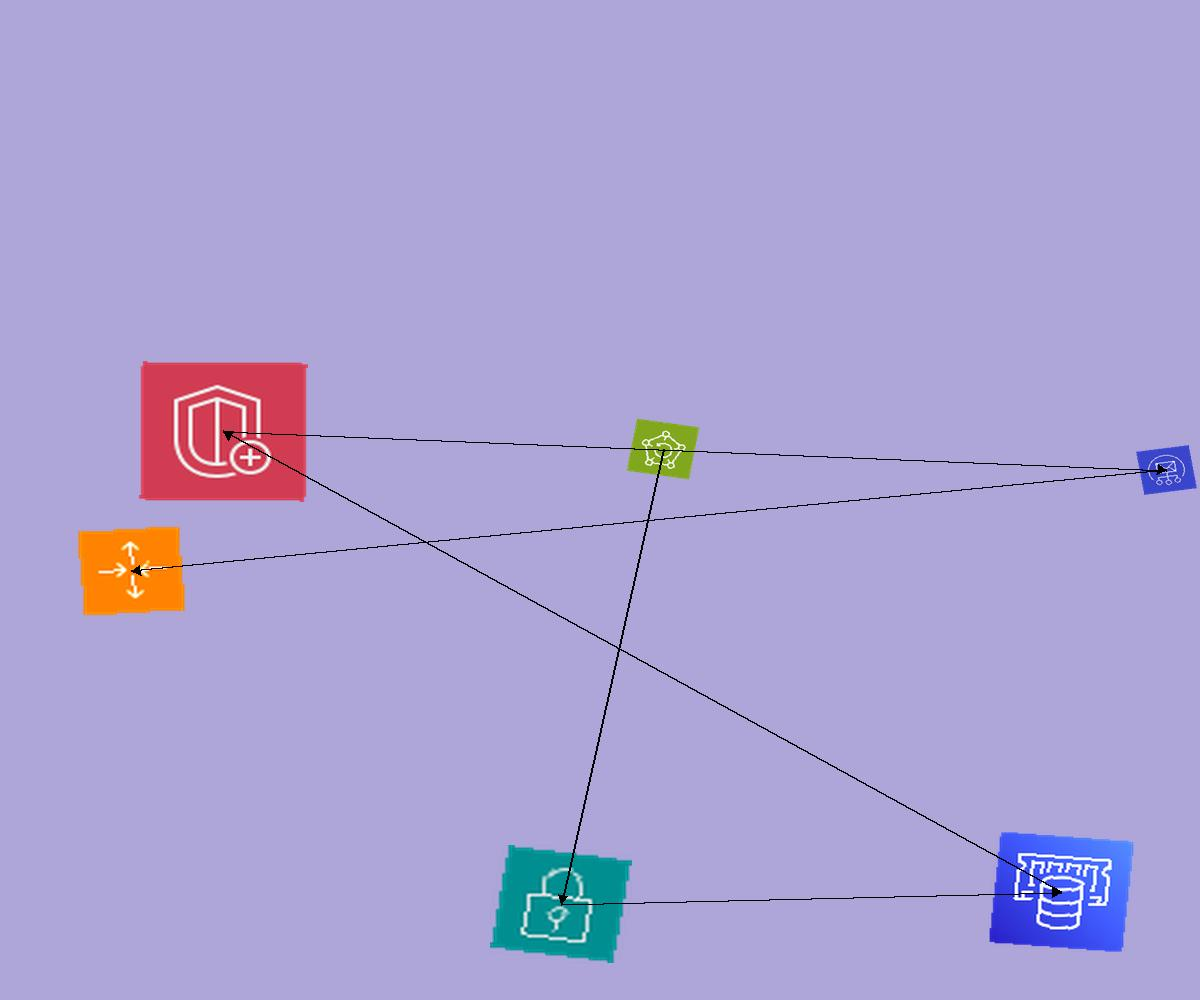AWS-Backup: (626, 418, 700, 480)
AWS-ElastiCache: (988, 831, 1135, 953)
AWS-Private-subnet: (490, 845, 632, 963)
AWS-Scaling-group: (76, 525, 187, 617)
AWS-Shield: (139, 361, 308, 502)
AWS-Simple-Email-Service: (1136, 445, 1197, 495)
